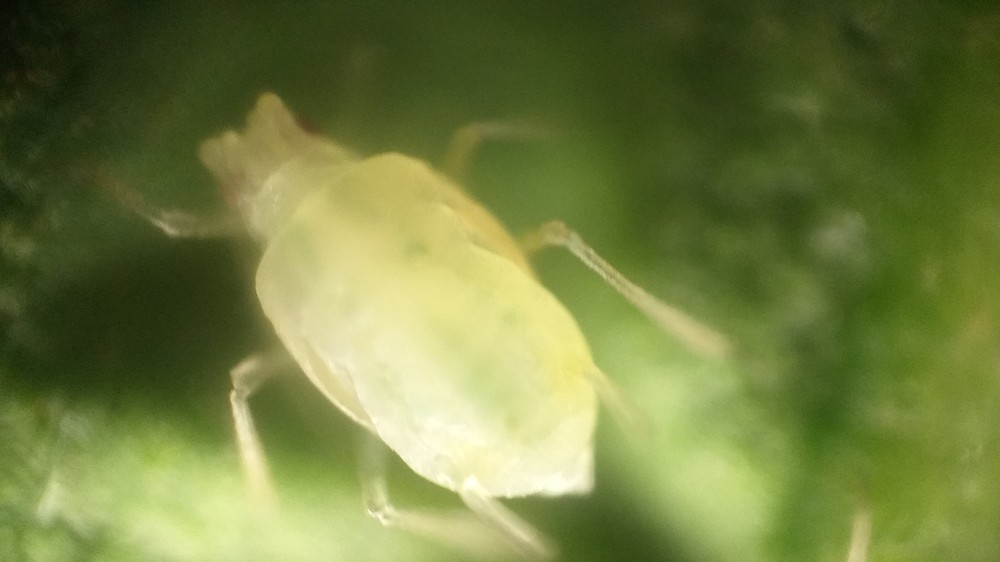Pulgon: (101, 48, 769, 551)
